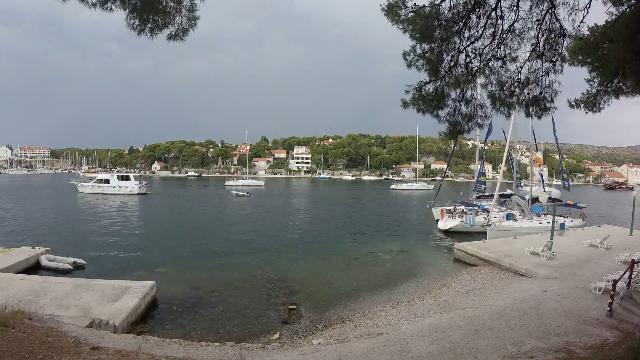Sailboat: (220, 168, 272, 190), (386, 176, 436, 194)
ferry: (66, 166, 156, 200)
speedboat: (230, 186, 254, 200)
